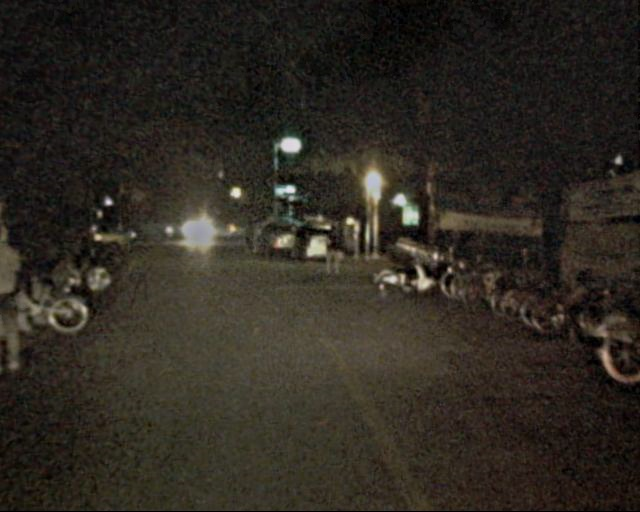person: (320, 224, 344, 282), (239, 222, 253, 255)
